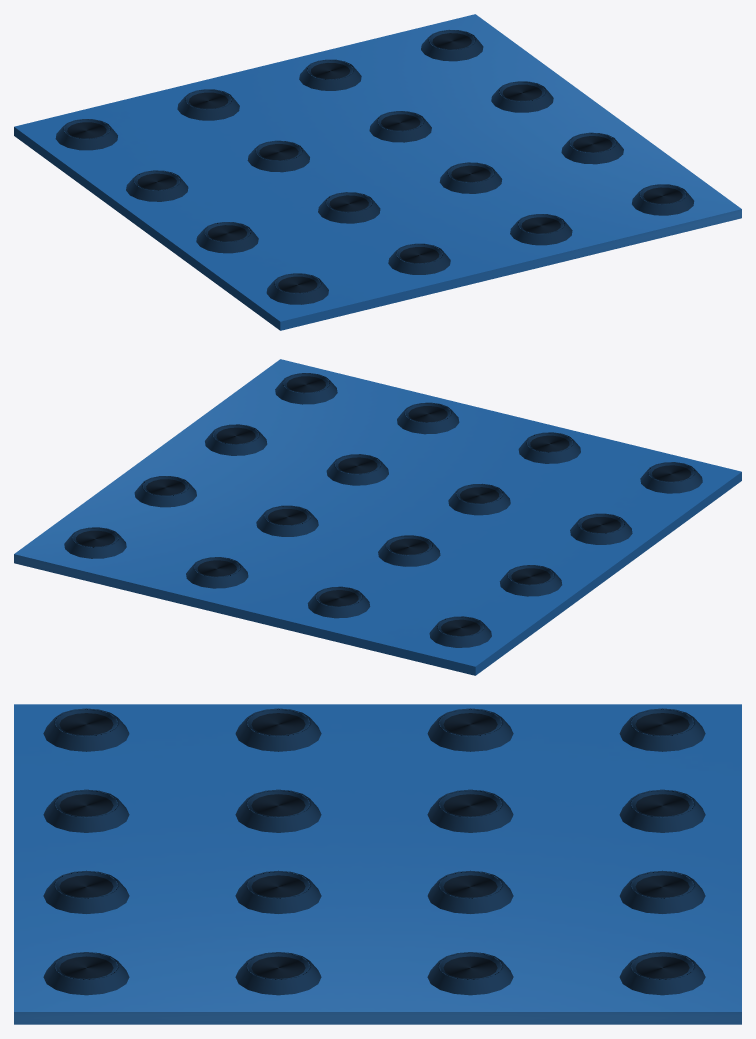
Rendered from Toondra_Trap Plane.fbx.
3 views of the same model, one above another, from view 1: azimuth 30°, elevation 25°; view 2: azimuth 150°, elevation 25°; view 3: azimuth 270°, elevation 25° (orthographic). The views are drawn at different scales.
Parts seen in each view (by area): view 1: Cube.008; view 2: Cube.008; view 3: Cube.008.
Part boxes in pixels (x1,y1,x2,y2): Cube.008: (14, 14, 741, 330); Cube.008: (14, 359, 741, 675); Cube.008: (14, 704, 741, 1024).
Bounding box in the file's own units: 78.74 × 2.78 × 78.74.
1 material, 1 textured.
